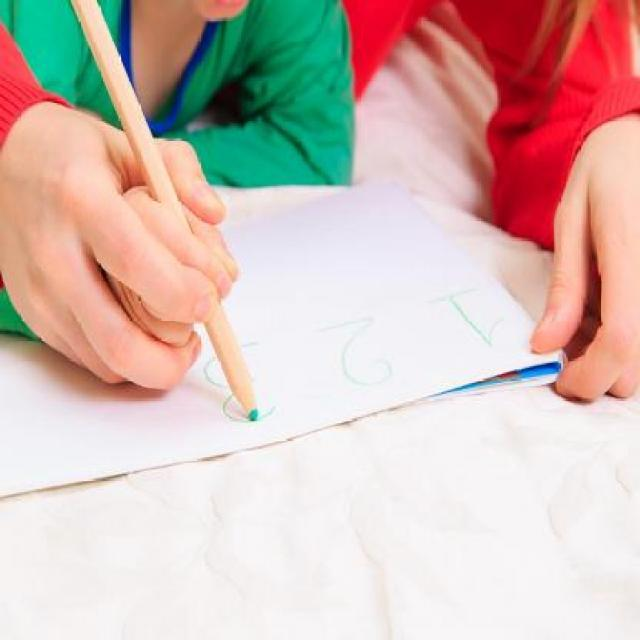Pencil: (212, 336, 268, 428)
